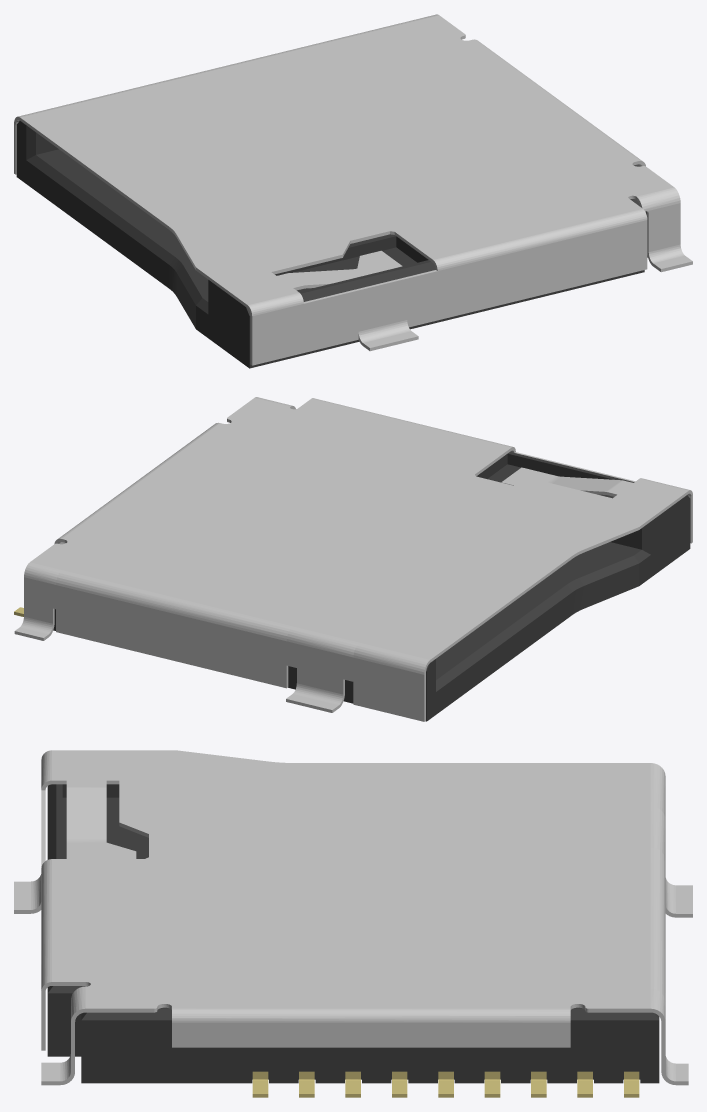
The model's file is beagleplay-microsd.glb.
3 renders of one model, top to bottom at view 1: azimuth 30°, elevation 25°; view 2: azimuth 150°, elevation 25°; view 3: azimuth 270°, elevation 25°, orthographic. The views are drawn at different scales.
Parts seen in each view (by area): view 1: MICRO_SD_ST_TF_003A_16_1X14_5MM; view 2: MICRO_SD_ST_TF_003A_16_1X14_5MM; view 3: MICRO_SD_ST_TF_003A_16_1X14_5MM.
Part boxes in pixels (<box>): MICRO_SD_ST_TF_003A_16_1X14_5MM: <box>14,14,692,368</box>; MICRO_SD_ST_TF_003A_16_1X14_5MM: <box>14,397,692,721</box>; MICRO_SD_ST_TF_003A_16_1X14_5MM: <box>14,750,692,1097</box>.
Size of the model in its own units: 15.2 by 2.35 by 16.1.
